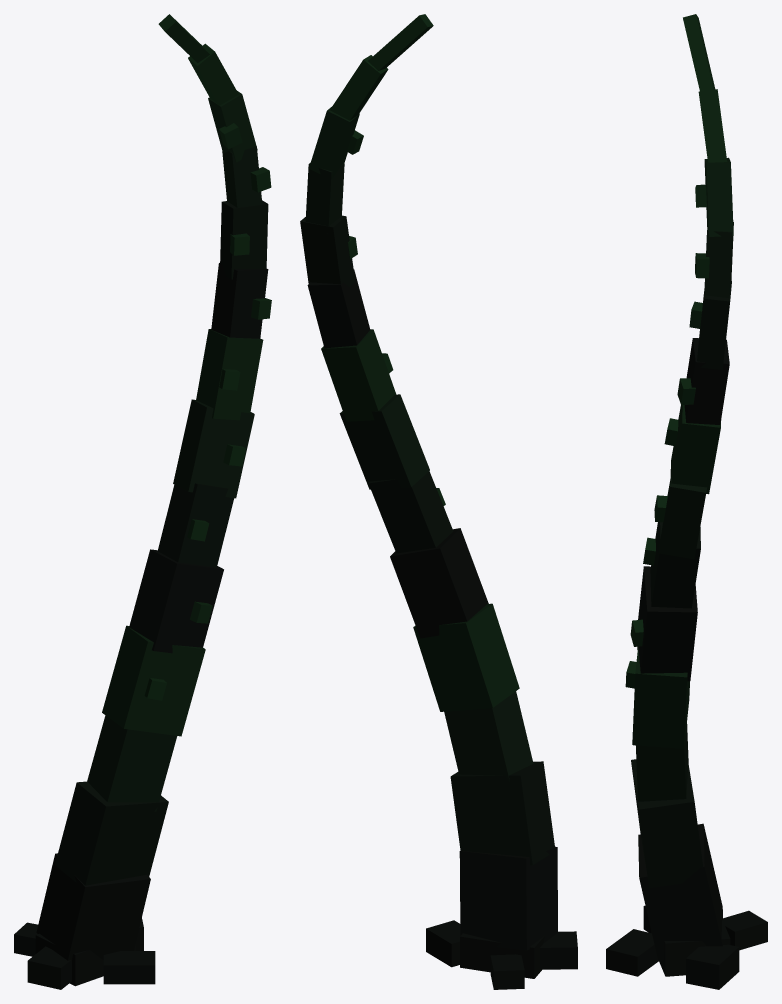
Rendered from tentacle_v2.obj.
3 renders of one model, left to right at view 1: azimuth 30°, elevation 25°; view 2: azimuth 150°, elevation 25°; view 3: azimuth 270°, elevation 25°, orthographic. The views are drawn at different scales.
Parts seen in each view (by area): view 1: Tentacle_v2_Segment_02, Tentacle_v2_Segment_01, Tentacle_v2_Segment_04, Tentacle_v2_Segment_05, Tentacle_v2_Segment_03, Tentacle_v2_Segment_07, Tentacle_v2_Segment_06, Tentacle_v2_Segment_08, Tentacle_v2_Segment_09, Tentacle_v2_Segment_10, Tentacle_v2_Root_4, Tentacle_v2_Segment_11 (+6 smaller); view 2: Tentacle_v2_Segment_01, Tentacle_v2_Segment_02, Tentacle_v2_Segment_04, Tentacle_v2_Segment_05, Tentacle_v2_Segment_03, Tentacle_v2_Segment_07, Tentacle_v2_Segment_06, Tentacle_v2_Segment_08, Tentacle_v2_Segment_09, Tentacle_v2_Segment_10, Tentacle_v2_Segment_11, Tentacle_v2_Root_1 (+6 smaller); view 3: Tentacle_v2_Segment_01, Tentacle_v2_Segment_02, Tentacle_v2_Segment_04, Tentacle_v2_Segment_05, Tentacle_v2_Segment_03, Tentacle_v2_Segment_08, Tentacle_v2_Segment_07, Tentacle_v2_Segment_06, Tentacle_v2_Segment_09, Tentacle_v2_Root_2, Tentacle_v2_Segment_10, Tentacle_v2_Segment_12 (+7 smaller).
Part boxes in pixels (<box>): Tentacle_v2_Segment_02: <box>55,781,168,885</box>; Tentacle_v2_Segment_01: <box>36,853,150,960</box>; Tentacle_v2_Segment_04: <box>102,625,205,736</box>; Tentacle_v2_Segment_05: <box>129,549,223,653</box>; Tentacle_v2_Segment_03: <box>87,715,177,811</box>; Tentacle_v2_Segment_07: <box>173,399,254,498</box>; Tentacle_v2_Segment_06: <box>157,483,234,567</box>; Tentacle_v2_Segment_08: <box>196,329,263,420</box>; Tentacle_v2_Segment_09: <box>211,263,268,338</box>; Tentacle_v2_Segment_10: <box>220,200,268,279</box>; Tentacle_v2_Root_4: <box>103,951,155,984</box>; Tentacle_v2_Segment_11: <box>222,146,262,207</box>; Tentacle_v2_Segment_01: <box>459,846,557,950</box>; Tentacle_v2_Segment_02: <box>450,761,554,865</box>; Tentacle_v2_Segment_04: <box>413,603,519,711</box>; Tentacle_v2_Segment_05: <box>390,528,488,638</box>; Tentacle_v2_Segment_03: <box>444,691,533,782</box>; Tentacle_v2_Segment_07: <box>339,394,429,489</box>; Tentacle_v2_Segment_06: <box>368,471,453,553</box>; Tentacle_v2_Segment_08: <box>321,329,396,421</box>; Tentacle_v2_Segment_09: <box>307,269,370,348</box>; Tentacle_v2_Segment_10: <box>300,215,355,286</box>; Tentacle_v2_Segment_11: <box>305,163,344,233</box>; Tentacle_v2_Root_1: <box>460,933,544,978</box>; Tentacle_v2_Segment_01: <box>638,823,722,961</box>; Tentacle_v2_Segment_02: <box>631,759,702,888</box>; Tentacle_v2_Segment_04: <box>632,647,689,748</box>; Tentacle_v2_Segment_05: <box>637,566,697,681</box>; Tentacle_v2_Segment_03: <box>635,723,688,809</box>; Tentacle_v2_Segment_08: <box>670,405,721,494</box>; Tentacle_v2_Segment_07: <box>658,477,706,559</box>; Tentacle_v2_Segment_06: <box>650,522,700,608</box>; Tentacle_v2_Segment_09: <box>684,338,729,424</box>; Tentacle_v2_Root_2: <box>686,944,739,989</box>; Tentacle_v2_Segment_10: <box>697,280,731,369</box>; Tentacle_v2_Segment_12: <box>704,157,733,236</box>.
Size of the model in its own units: 1.7 by 5.95 by 0.8833.
